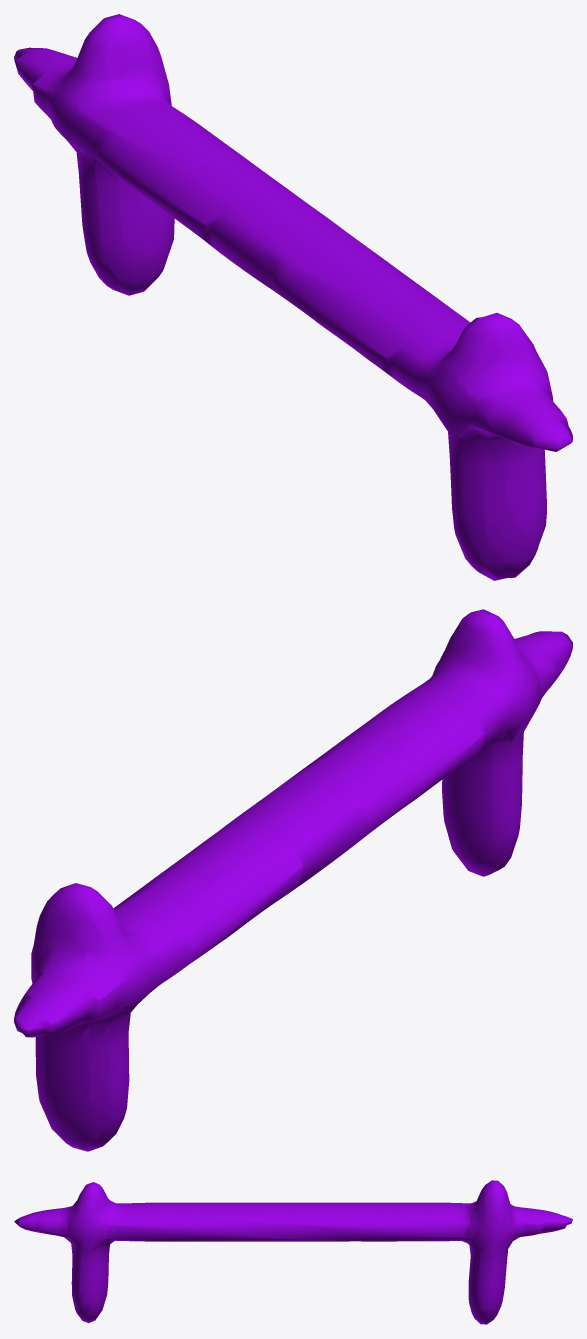
Rendered from obstacle5.fbx.
3 renders of one model, top to bottom at view 1: azimuth 30°, elevation 25°; view 2: azimuth 150°, elevation 25°; view 3: azimuth 270°, elevation 25°, orthographic. The views are drawn at different scales.
Parts seen in each view (by area): view 1: Mball; view 2: Mball; view 3: Mball.
Part boxes in pixels (x1,y1,x2,y2): Mball: (14, 14, 572, 580); Mball: (14, 609, 572, 1151); Mball: (14, 1180, 572, 1324).
Size of the model in its own units: 1386 by 3132 by 11260.
